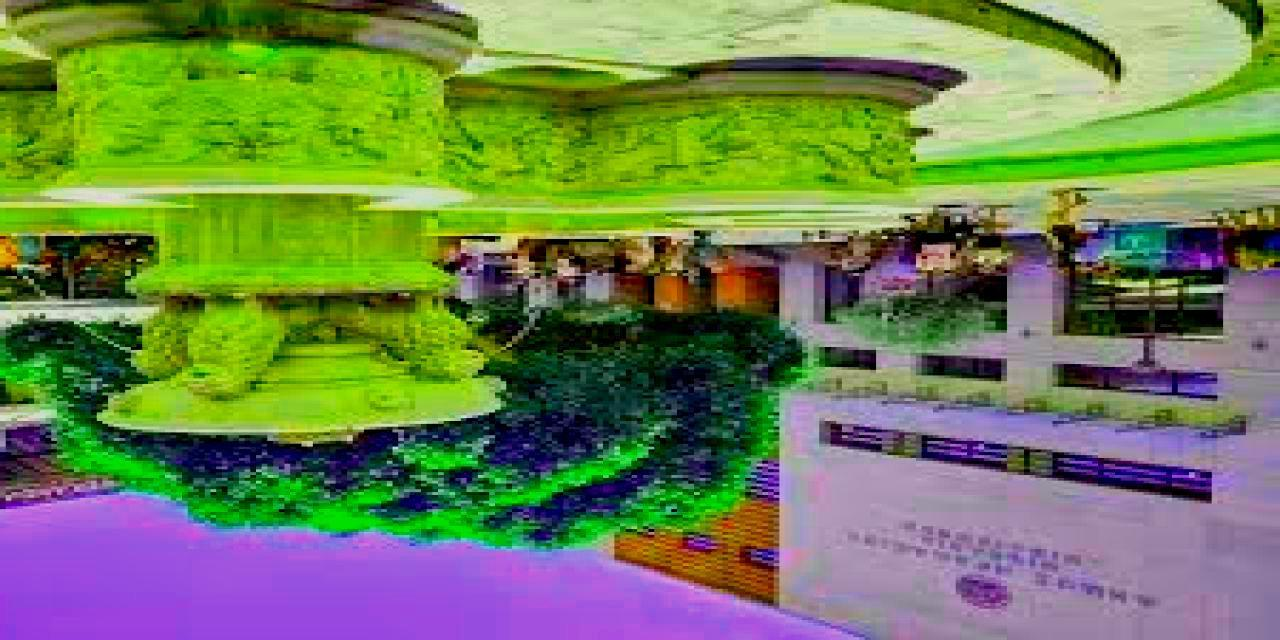Liontaria: (1, 7, 945, 436)
